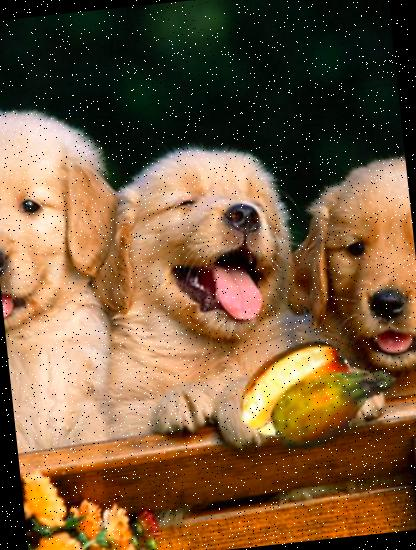Cactus: (257, 327, 408, 478)
Carambula: (228, 323, 361, 456)
